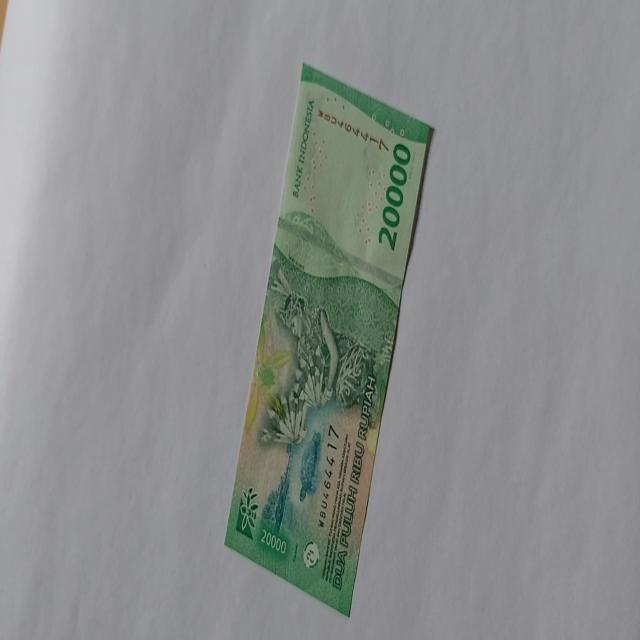dua puluh ribu rupiah: (222, 61, 434, 617)
